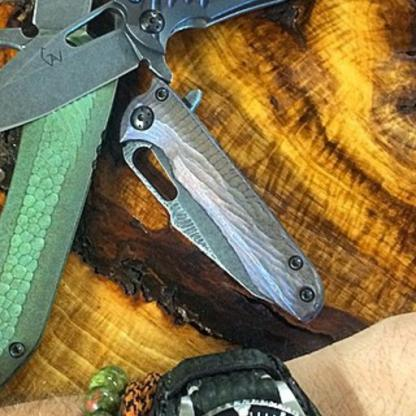knife: (0, 0, 377, 328), (0, 0, 142, 409)
